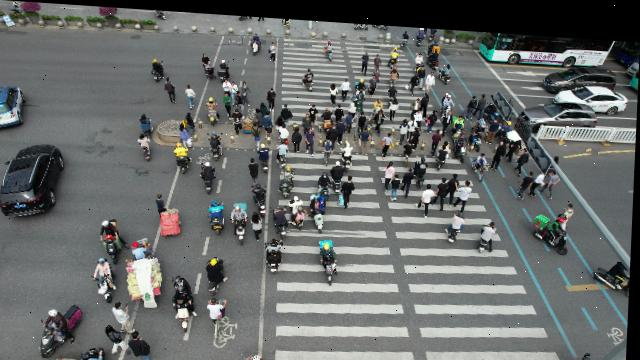non-motor-vehicle: (127, 236, 167, 308), (41, 297, 84, 357), (533, 205, 571, 248), (172, 272, 200, 328), (98, 214, 130, 261), (319, 234, 342, 283), (95, 256, 120, 301), (597, 259, 632, 288), (206, 294, 231, 334), (206, 252, 230, 293), (265, 233, 286, 273), (208, 197, 228, 235), (448, 203, 469, 237), (234, 198, 250, 242), (479, 214, 498, 250), (272, 202, 290, 235), (279, 161, 297, 193), (201, 159, 217, 194), (473, 145, 492, 174), (252, 179, 270, 209), (414, 151, 430, 184), (206, 129, 225, 156), (291, 192, 307, 224), (312, 193, 327, 227), (174, 139, 191, 169), (205, 92, 221, 122), (137, 132, 154, 160), (332, 159, 347, 189), (257, 139, 272, 169), (318, 167, 333, 194), (438, 134, 453, 161), (139, 109, 155, 134), (303, 61, 317, 88), (277, 135, 290, 163), (344, 139, 357, 166), (456, 129, 470, 154), (83, 346, 108, 360), (473, 116, 486, 142), (151, 57, 165, 80), (439, 59, 454, 80), (245, 349, 273, 360), (217, 55, 231, 77), (321, 103, 334, 126), (249, 31, 263, 52), (404, 134, 414, 161), (428, 46, 444, 62), (443, 85, 454, 108), (324, 35, 334, 58), (454, 107, 464, 127), (390, 62, 401, 80), (355, 73, 367, 89), (416, 22, 426, 40), (391, 41, 399, 62), (387, 79, 399, 93), (501, 114, 515, 125), (374, 92, 384, 106), (401, 25, 408, 43), (428, 34, 439, 45), (429, 24, 436, 35)
person: (155, 189, 185, 234), (112, 298, 138, 330), (107, 322, 133, 354), (419, 177, 437, 213), (231, 105, 253, 132), (458, 173, 474, 208), (543, 164, 562, 193), (134, 330, 152, 360), (517, 161, 534, 192), (343, 168, 358, 203), (447, 167, 463, 199), (202, 51, 219, 79), (248, 153, 263, 180), (496, 134, 508, 165), (390, 169, 404, 195), (164, 74, 177, 102), (179, 121, 194, 145), (253, 207, 265, 237), (486, 112, 501, 136), (384, 154, 396, 183), (404, 161, 416, 190), (517, 139, 529, 168), (361, 121, 372, 150), (438, 169, 447, 204), (186, 82, 198, 108), (375, 103, 387, 129), (433, 122, 444, 150), (292, 122, 303, 150), (281, 99, 294, 122), (323, 129, 333, 158), (406, 66, 418, 90), (426, 105, 439, 127), (466, 87, 477, 113), (186, 110, 199, 131), (535, 164, 545, 191), (306, 124, 315, 153), (566, 194, 576, 220), (243, 77, 253, 103), (223, 89, 233, 115), (477, 87, 488, 110), (382, 127, 393, 150), (390, 92, 401, 114), (341, 72, 351, 96), (426, 65, 437, 86), (309, 99, 319, 122), (328, 119, 338, 142), (361, 47, 370, 72), (253, 120, 262, 145), (337, 114, 345, 140), (330, 77, 339, 100), (267, 84, 276, 107), (400, 112, 408, 137), (412, 121, 422, 141), (276, 111, 286, 131), (422, 87, 431, 108), (265, 109, 273, 132), (418, 59, 427, 79), (303, 109, 312, 128), (369, 69, 377, 90), (374, 48, 383, 66), (359, 106, 368, 124), (445, 105, 452, 128), (346, 106, 353, 129), (416, 104, 426, 120), (236, 88, 244, 107), (256, 103, 263, 124), (222, 76, 231, 92), (414, 46, 424, 60), (410, 111, 417, 131), (232, 79, 238, 102), (269, 39, 276, 58), (336, 99, 344, 115), (413, 91, 422, 105), (261, 98, 267, 110), (349, 96, 355, 107), (374, 64, 380, 74)
